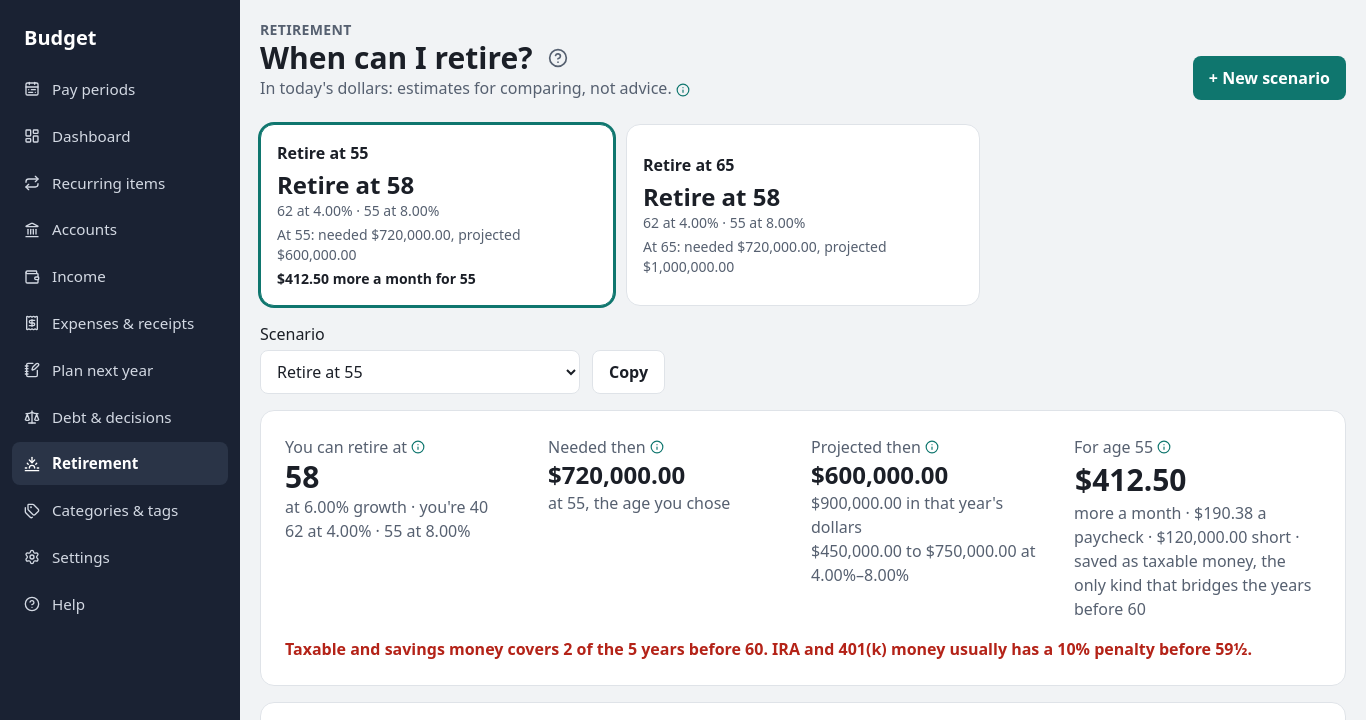
Test: Retirement › compares scenarios side by side, and each opens as the chosen one
Check: the button "Retire at 55" shows "$412.50 more a month for 55", box [260,124,614,306]
Click the button "Retire at 65" at (803, 215), box [626,124,980,306]
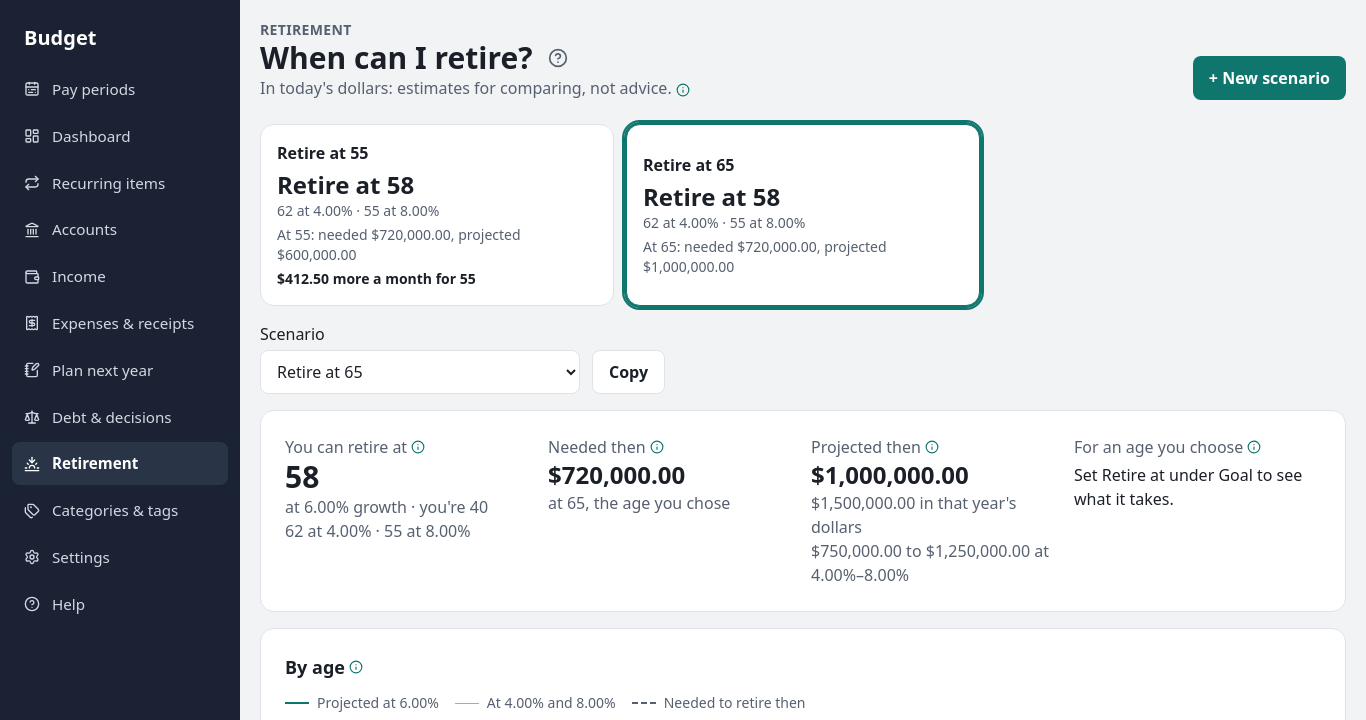
Check: the dropdown labelled "Scenario" shows "Retire at 65", box [260,350,580,394]
Check: the text "Set Retire at under Goal to see what it takes." is shown, box [1074,463,1321,511]
